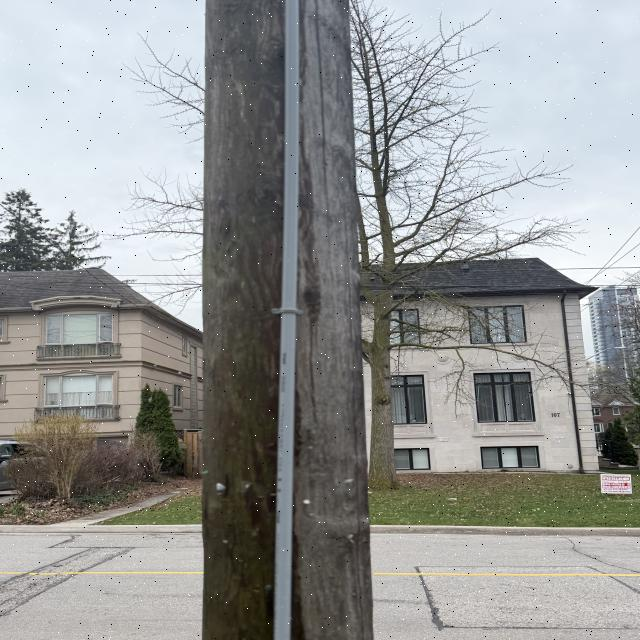Electrical Pole: (190, 0, 384, 640)
